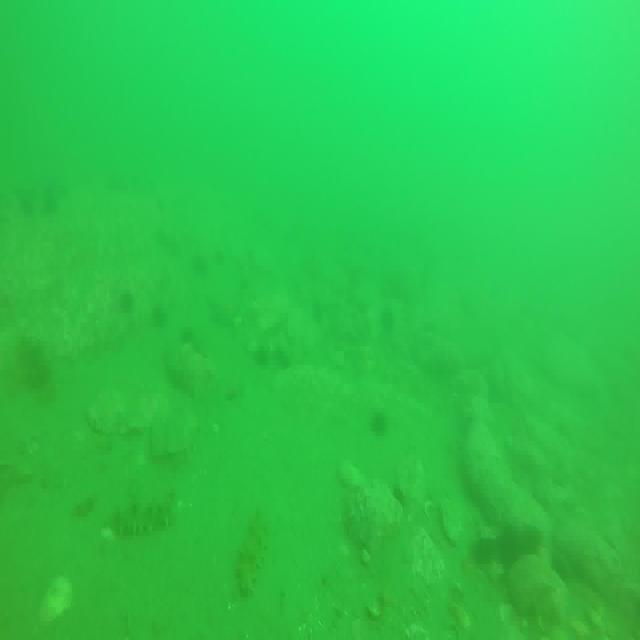echinus: (372, 407, 390, 434), (274, 346, 292, 369), (257, 343, 271, 365), (119, 289, 132, 309)
holothurian: (111, 489, 179, 542), (240, 510, 269, 599), (25, 336, 57, 406)
